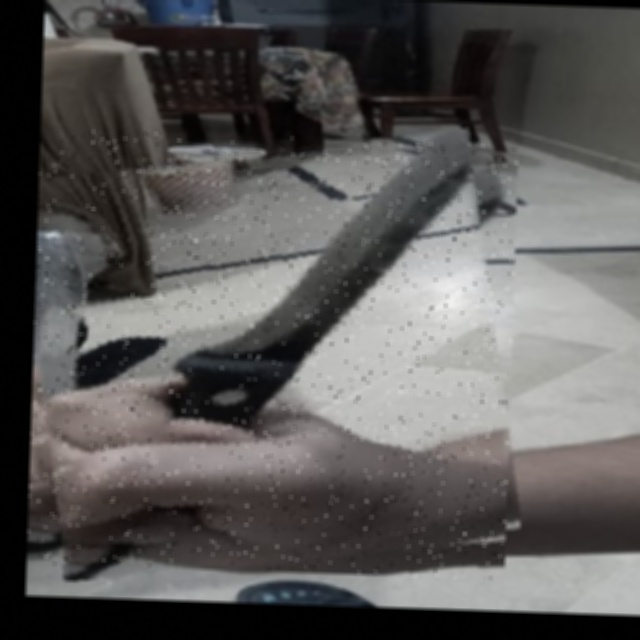Sharp-Object: (27, 129, 517, 579)
